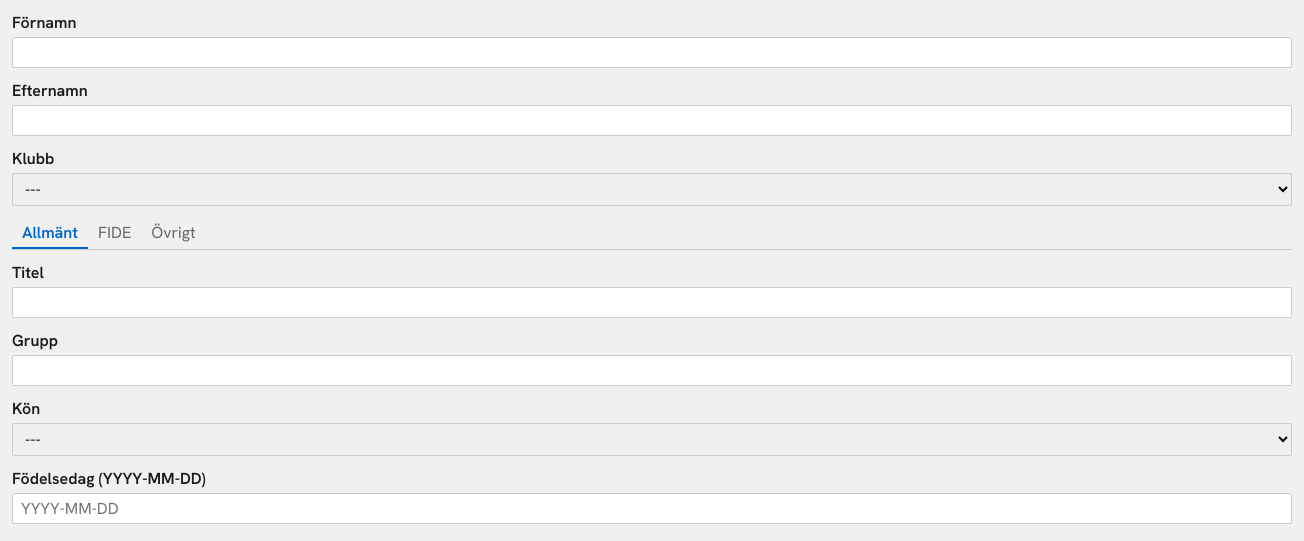
Test: PlayerEditor sub-tabs › shows Federation, FIDE ID, and SSF ID on Övrigt tab
This screenshot has width=1304, height=541.
Click the button with test id "editor-tab-other": (173, 234) [141,218,206,249]
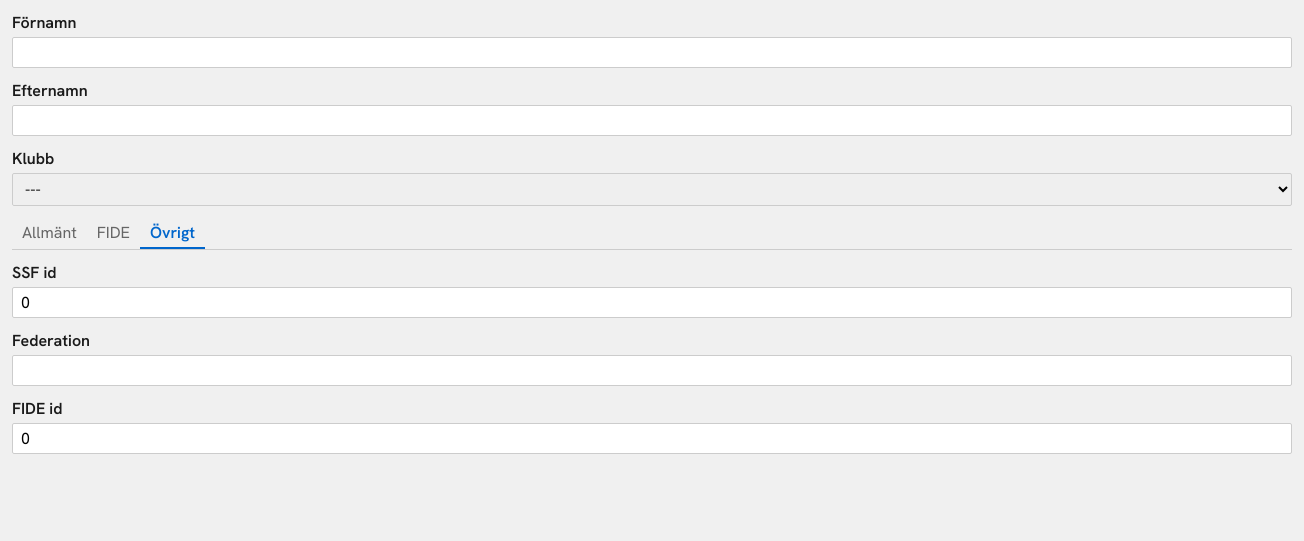
expect the text "Federation" is shown: met, box [12,330,90,351]
expect the text "FIDE id" is shown: met, box [12,398,62,419]
expect the text "SSF id" is shown: met, box [12,262,56,283]
